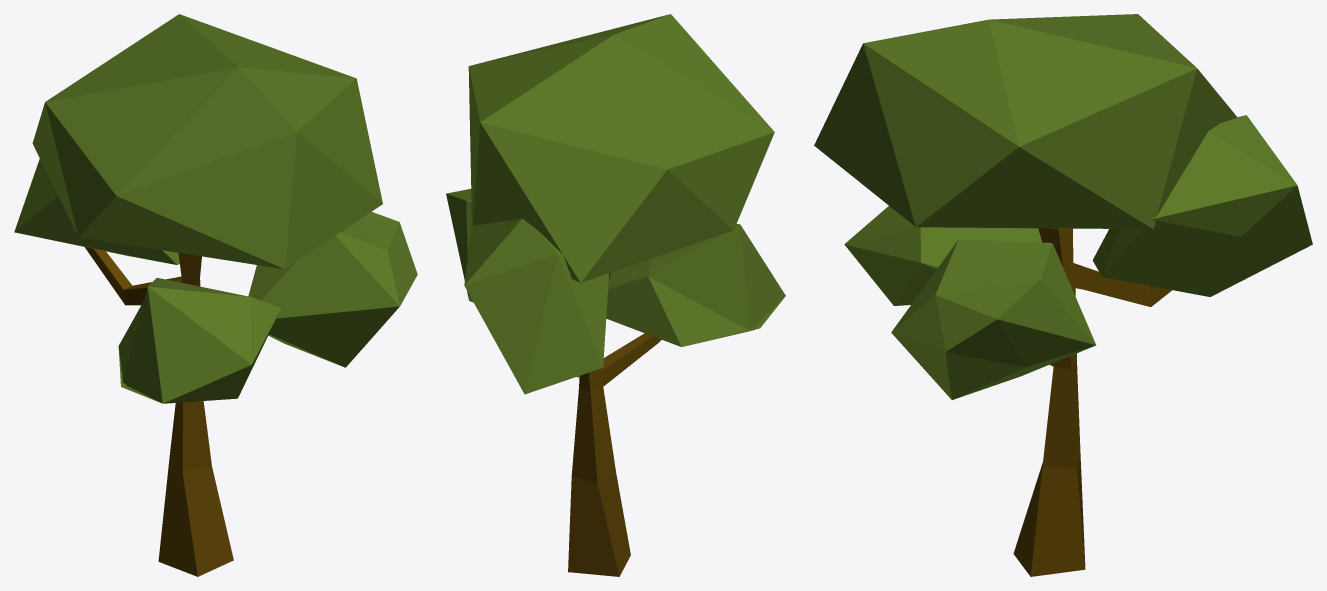
File: oak-green.gltf
The picture shows the model from 3 angles, left to right: view 1: azimuth 30°, elevation 25°; view 2: azimuth 150°, elevation 25°; view 3: azimuth 270°, elevation 25°; orthographic projection. The views are drawn at different scales.
Visible parts, largest first — view 1: Plane.002; view 2: Plane.002; view 3: Plane.002.
Boxes of the visible parts, bbox=[...] form: Plane.002: bbox=[14, 14, 417, 576]; Plane.002: bbox=[446, 14, 785, 576]; Plane.002: bbox=[814, 14, 1312, 576].
Bounding box in the file's own units: 0.7252 × 1.15 × 0.9461.
